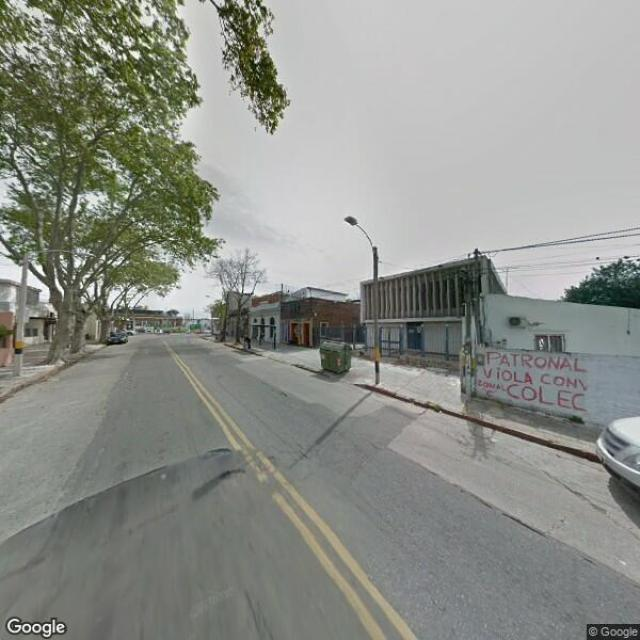garbage container: (316, 336, 361, 383)
